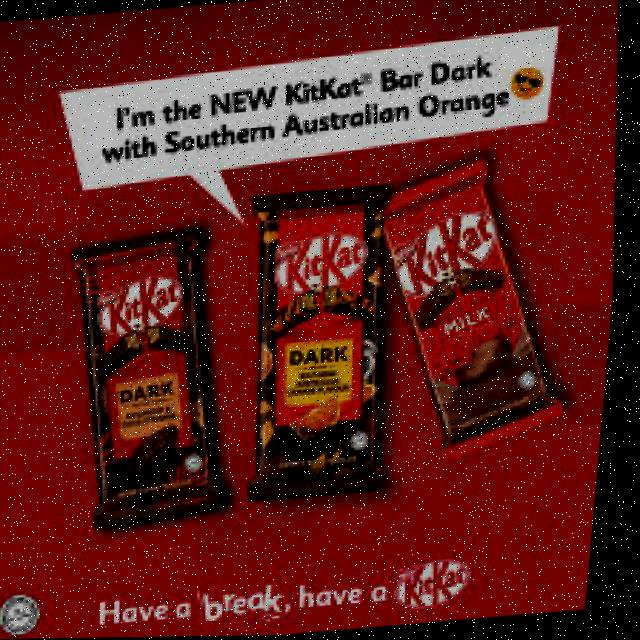kitkat: (361, 149, 595, 467), (58, 222, 262, 526), (237, 186, 419, 504)
